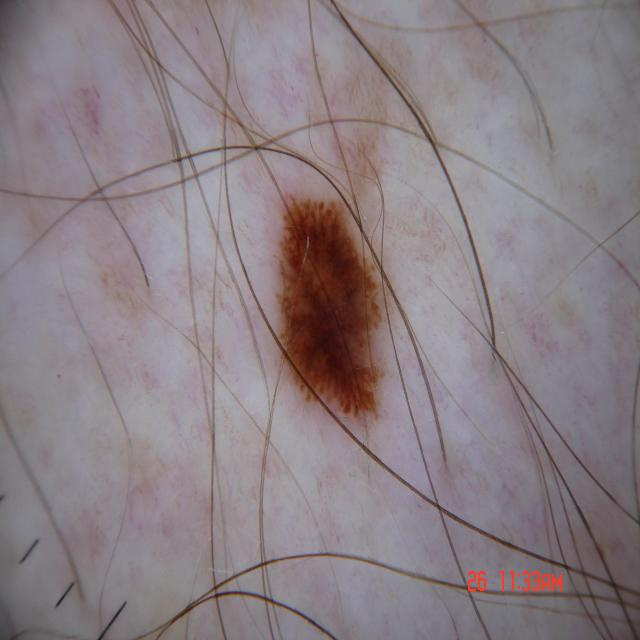Melanoma: (265, 176, 394, 437)
